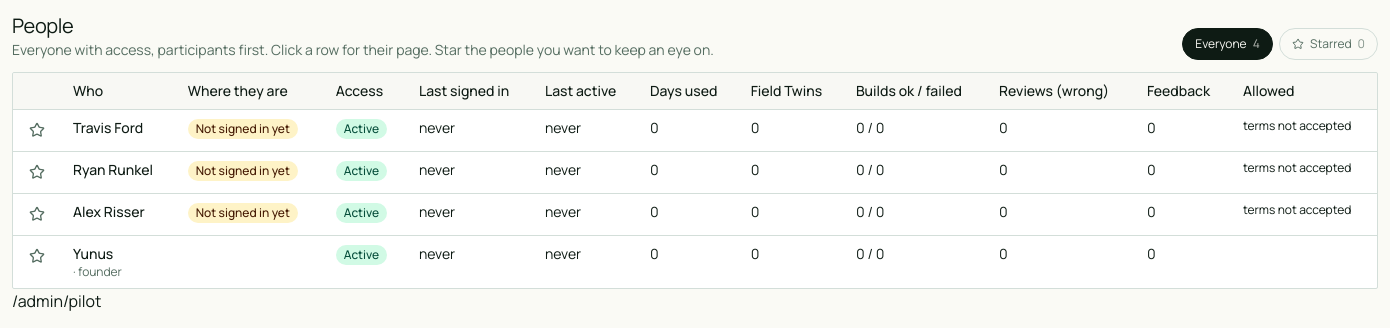
Test: starring people on the desk (a server that does not keep stars yet: this browser keeps them) › with nobody starred, the Starred view says how to star someone
The image size is (1390, 328).
Click the button "Starred 0": [1328, 44] box [1279,28,1378,60]
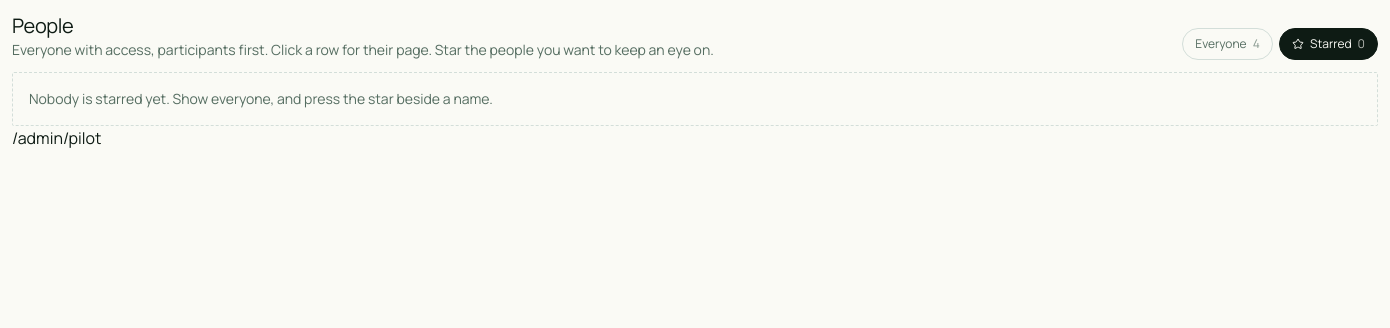
Expected: the text "Nobody is starred yet. Show everyone, and press the star beside a name." is shown, [12,72,1378,126]
Expected: the table is gone
Click the button "Everyone 4": [1228, 44] box [1182,28,1273,60]
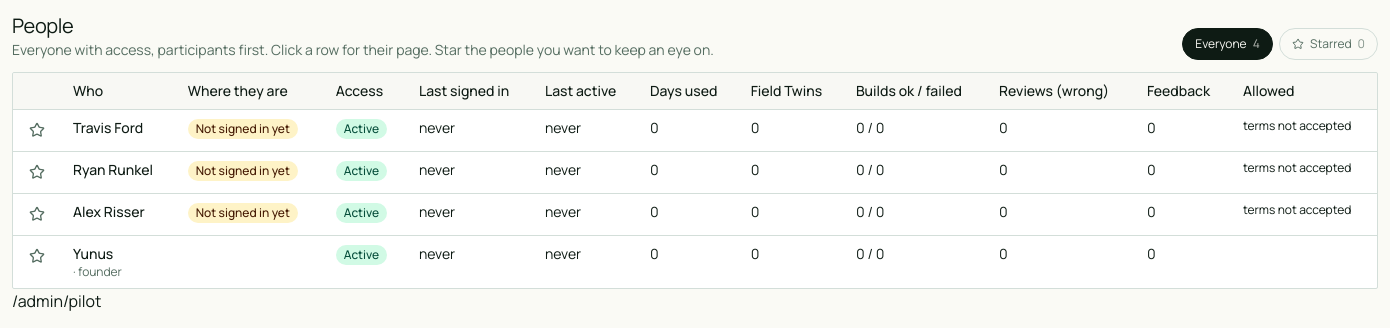
Expected: the number of links is 4, [73,118,143,137]; [73,160,153,179]; [73,202,145,221]; [73,244,113,263]
